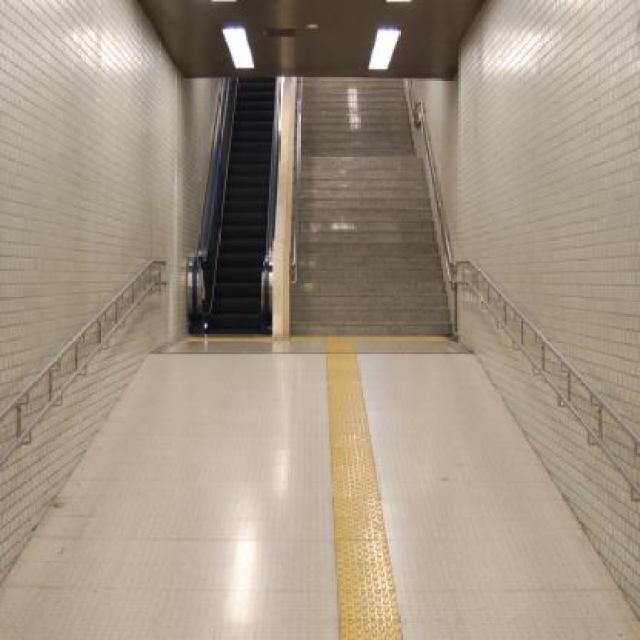stair: (289, 76, 457, 338), (205, 76, 278, 332)
